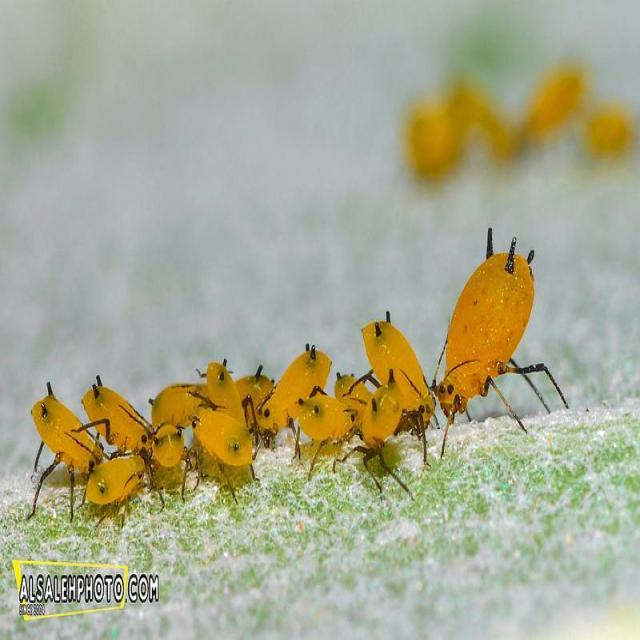aphid: (431, 238, 571, 474), (356, 301, 434, 468), (248, 335, 336, 447), (23, 378, 113, 483), (79, 368, 163, 471), (186, 404, 264, 488), (76, 445, 156, 525), (294, 392, 360, 449), (201, 352, 247, 428), (150, 378, 201, 439)
